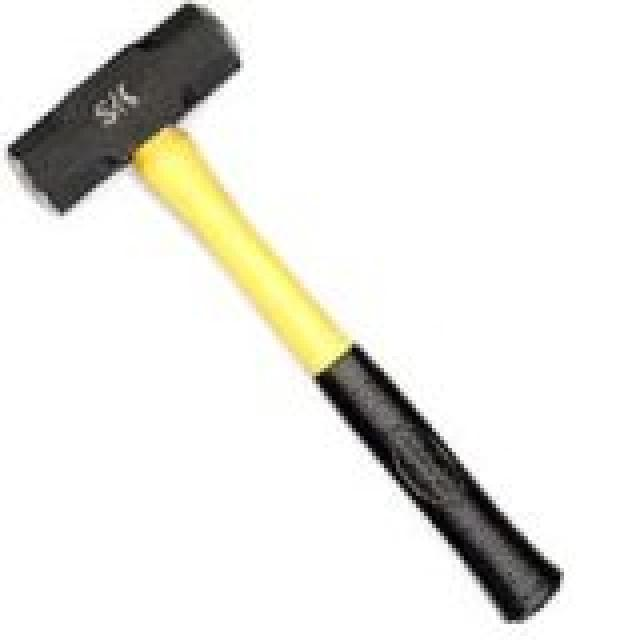hammer: (0, 0, 564, 624)
